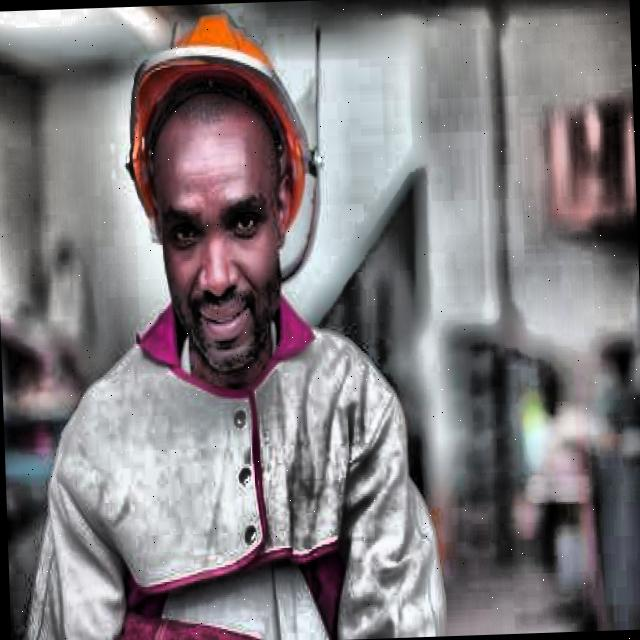helmet: (105, 0, 346, 391)
